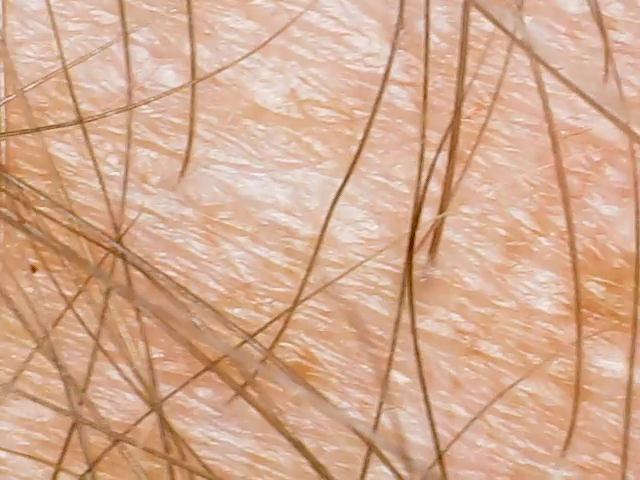folicle: (166, 158, 198, 190), (418, 248, 446, 282), (547, 437, 573, 472), (211, 387, 236, 416), (590, 65, 615, 90)
